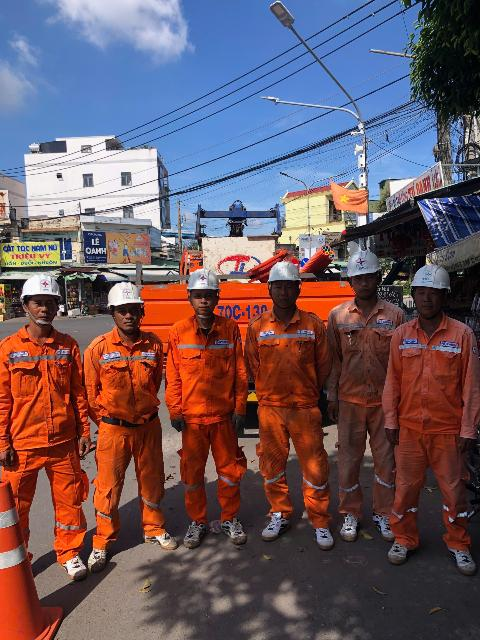gloves: (226, 410, 251, 439), (162, 418, 194, 437)
helmet: (8, 270, 72, 307), (181, 260, 226, 300), (339, 249, 385, 284), (261, 256, 303, 293), (107, 275, 145, 312), (415, 265, 452, 293)
shoes: (54, 547, 91, 585), (452, 538, 480, 582), (333, 510, 364, 547), (367, 503, 395, 543), (258, 510, 291, 543), (303, 521, 334, 555), (213, 518, 250, 546), (386, 530, 414, 566), (177, 515, 205, 550), (144, 525, 177, 554), (84, 544, 109, 577)
